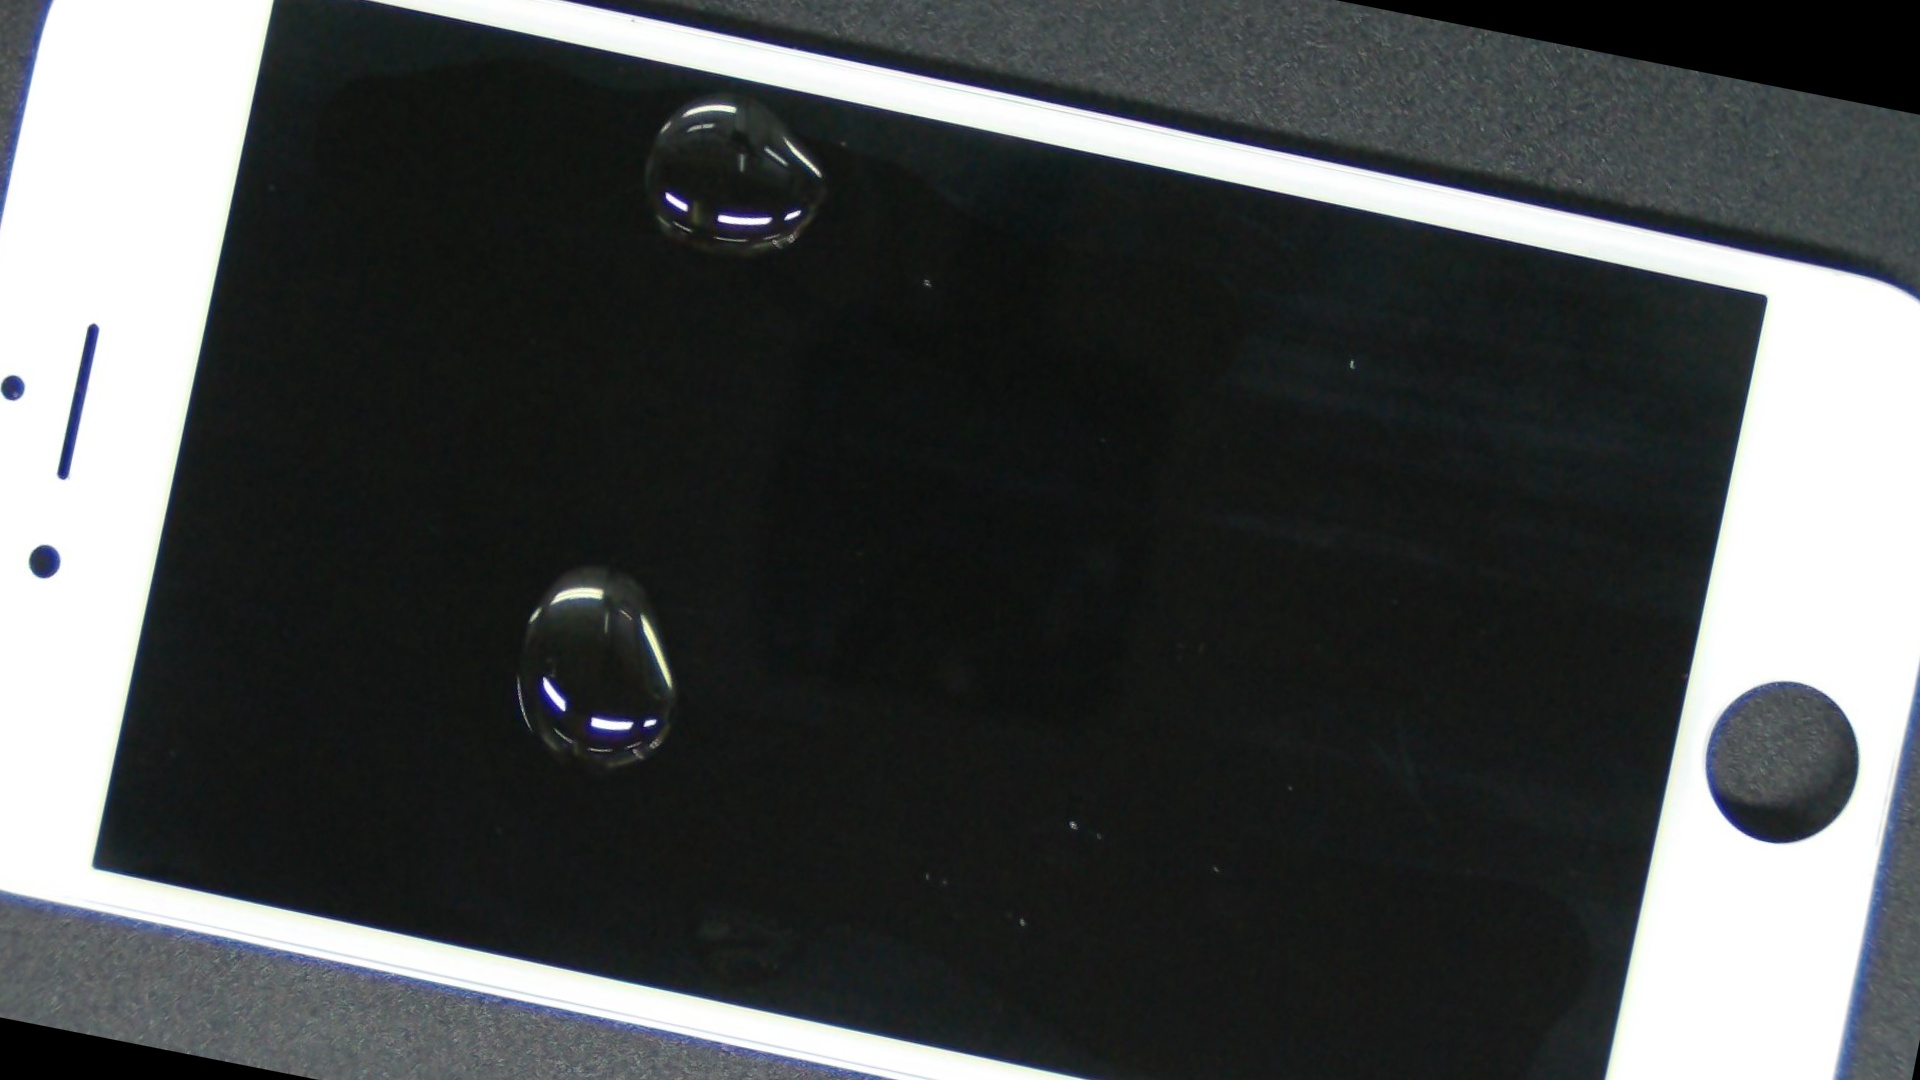oil: (175, 153, 1031, 977), (338, 0, 1139, 268)
